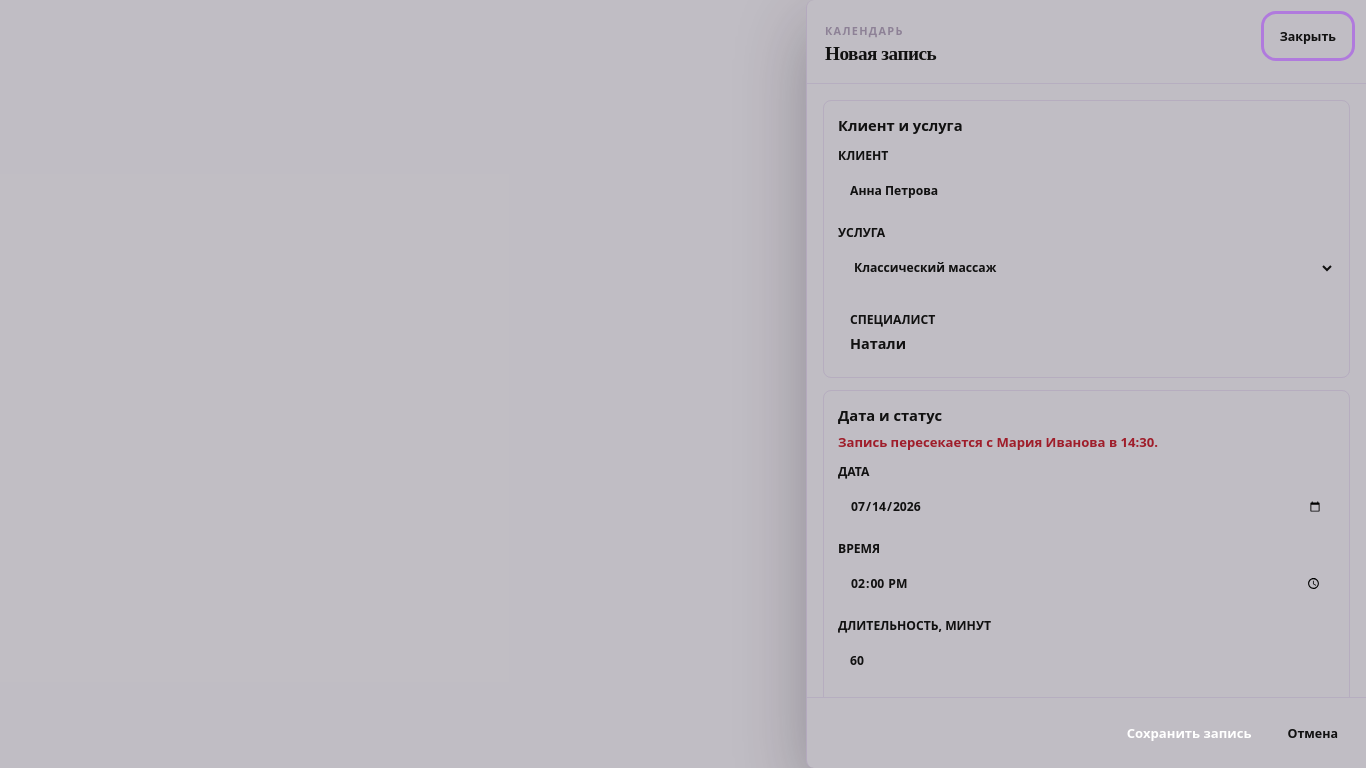
Test case: CalendarAppointmentDialog › identifies the conflicting appointment and blocks specialist overrides
Check: the message shows "Запись пересекается с Мария Иванова в 14:30", box [838,433,1158,451]
Click the button "Сохранить запись": (1189, 733) [1113,712,1266,754]
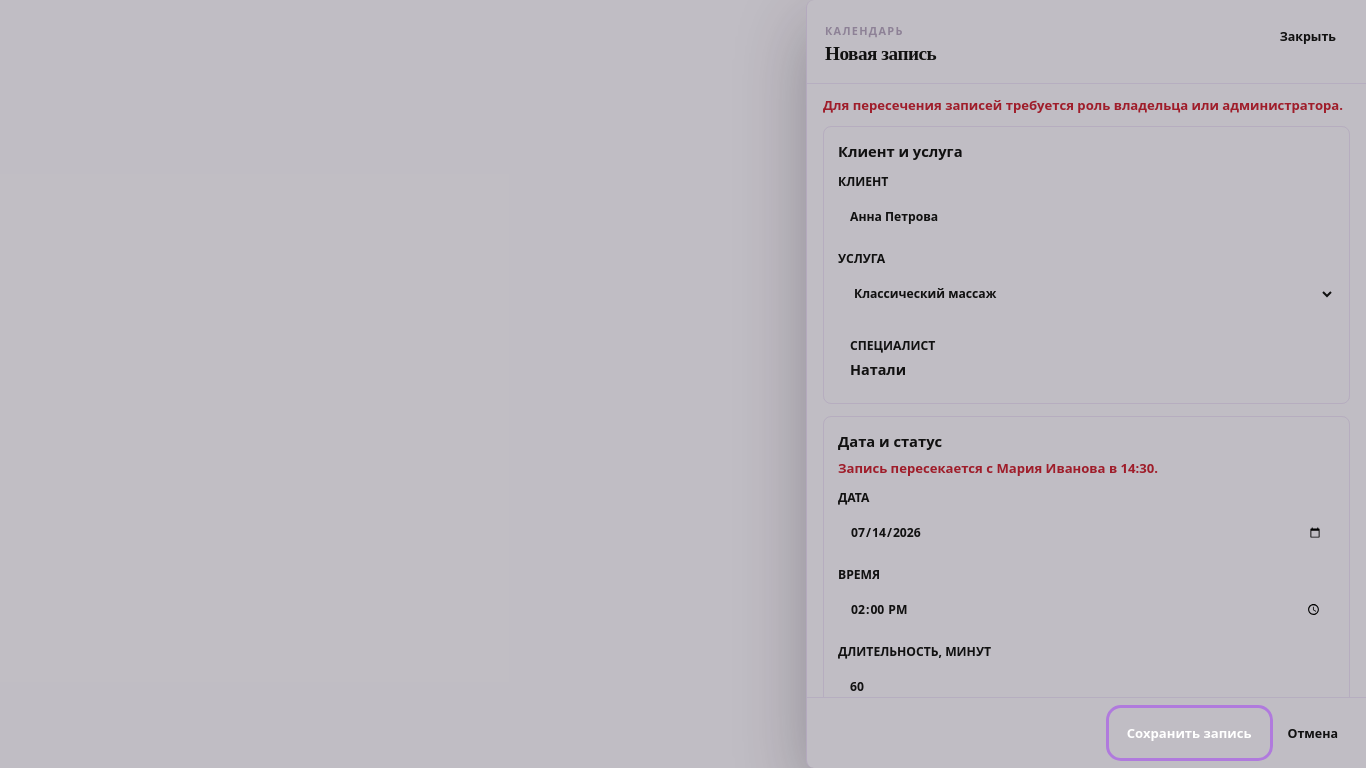
Check: the message "Для пересечения записей требуется роль владельца или администратора." is shown, box [823,96,1350,114]
